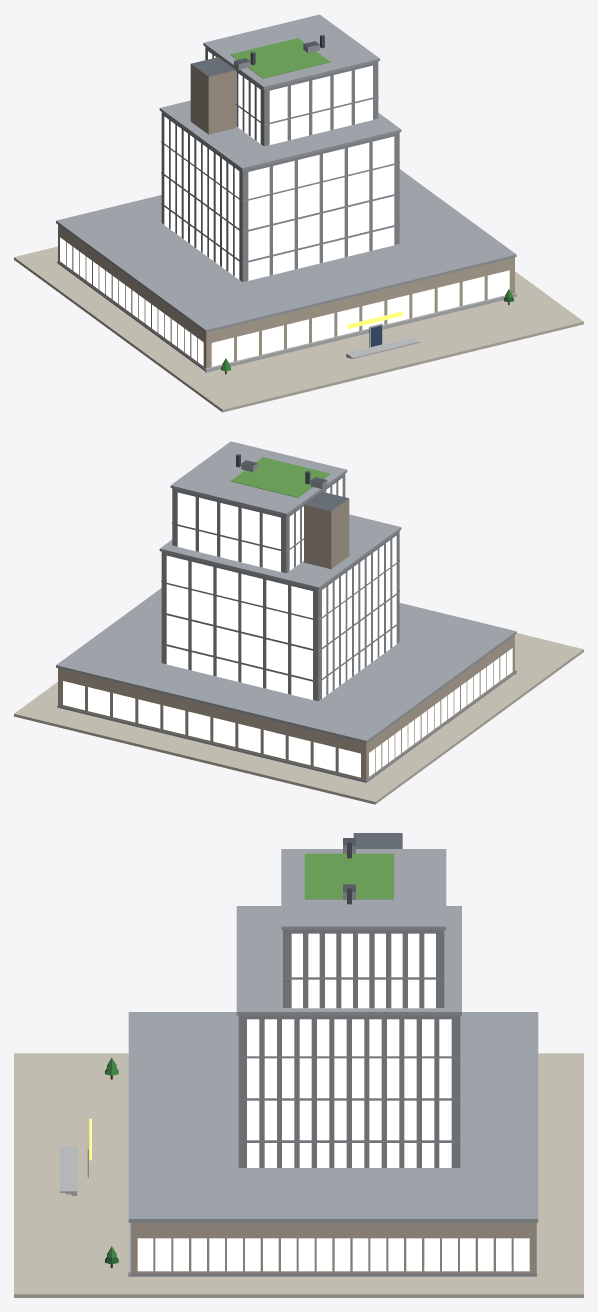
3 views of the same model, one above another, from view 1: azimuth 30°, elevation 25°; view 2: azimuth 150°, elevation 25°; view 3: azimuth 270°, elevation 25° (orthographic). The views are drawn at different scales.
Visible parts, largest first — view 1: b20_x4; view 2: b20_x4; view 3: b20_x4.
Boxes of the visible parts, x1,y1,x2,y2 form: b20_x4: [14, 14, 583, 412]; b20_x4: [14, 441, 583, 804]; b20_x4: [14, 833, 583, 1297].
Size of the model in its own units: 3.96 by 2.43 by 3.96.
